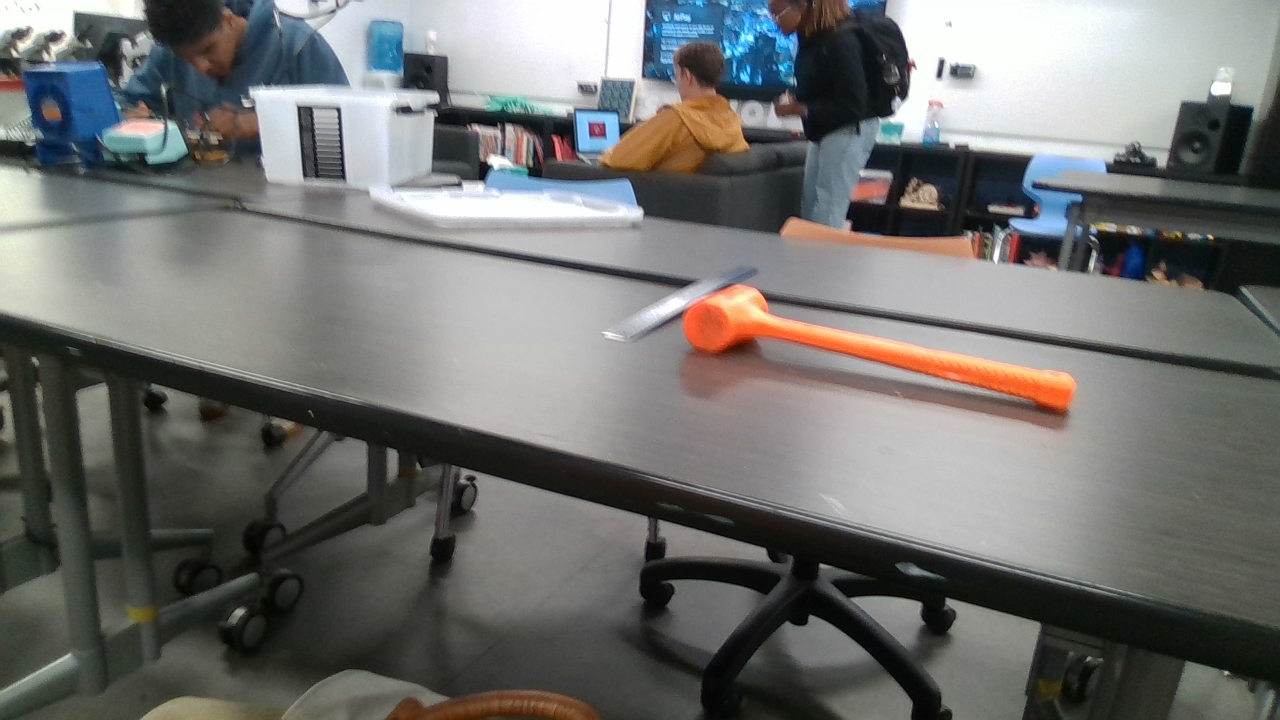Orange Hammer: (677, 284, 1072, 413)
